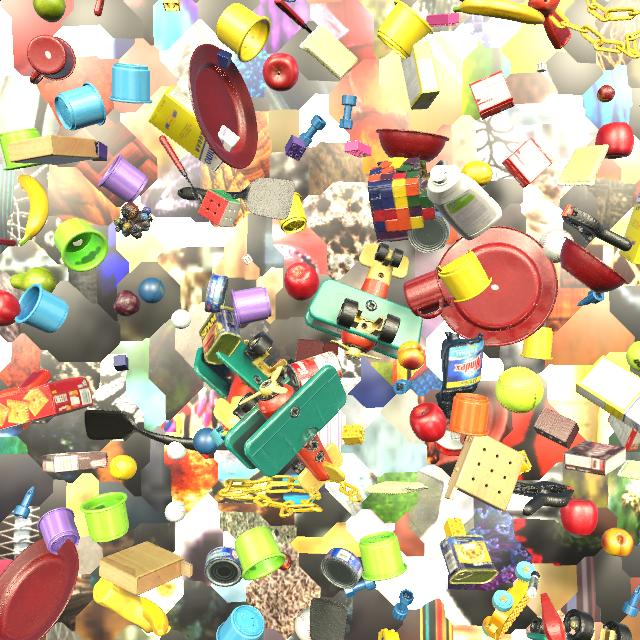ycb_003_cracker_box: (0, 377, 94, 430), (459, 0, 465, 2)
ycb_004_sugar_box: (148, 85, 240, 172), (575, 355, 640, 433), (400, 11, 440, 110), (618, 190, 640, 265)
ycb_005_tomato_soup_can: (284, 351, 342, 393)
ycb_006_mustard_bottle: (93, 577, 171, 634)
ycb_007_tuna_fish_can: (408, 211, 451, 253), (321, 547, 363, 589), (204, 546, 243, 587), (205, 273, 228, 313)
ycb_008_pudding_box: (563, 441, 626, 476), (42, 451, 108, 473)
ycb_009_gelatin_box: (502, 137, 553, 188), (469, 70, 515, 120), (607, 414, 640, 451)
ycb_010_potted_meat_can: (440, 535, 498, 584), (199, 306, 241, 365)
ycb_011_banana: (453, 0, 545, 25), (18, 175, 49, 246), (139, 596, 169, 637)
ycb_013_apple: (409, 402, 447, 443), (262, 53, 299, 92), (595, 122, 634, 159), (560, 499, 598, 536), (284, 262, 319, 301), (0, 290, 21, 327)
ycb_014_lemon: (461, 161, 493, 187), (109, 455, 137, 480)
ycb_015_peach: (601, 528, 634, 557), (397, 341, 425, 370)
ycb_016_pear: (10, 267, 57, 293), (33, 0, 66, 23)
ycb_018_plum: (113, 290, 141, 317)
